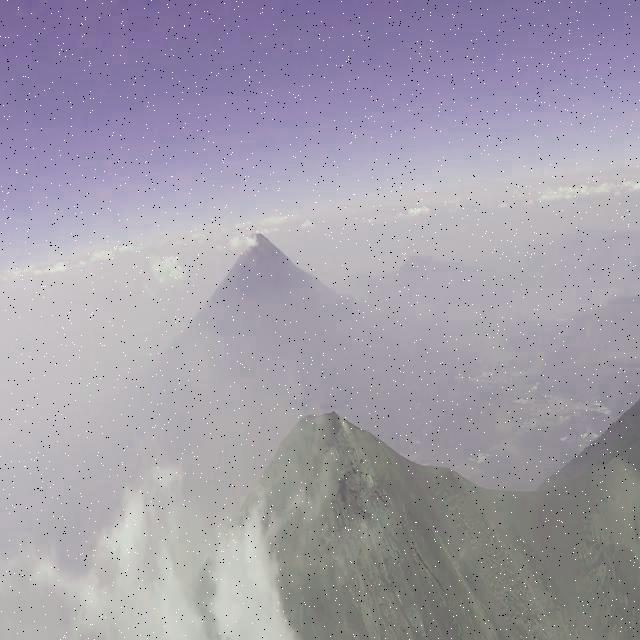Summit: (206, 396, 469, 570)
